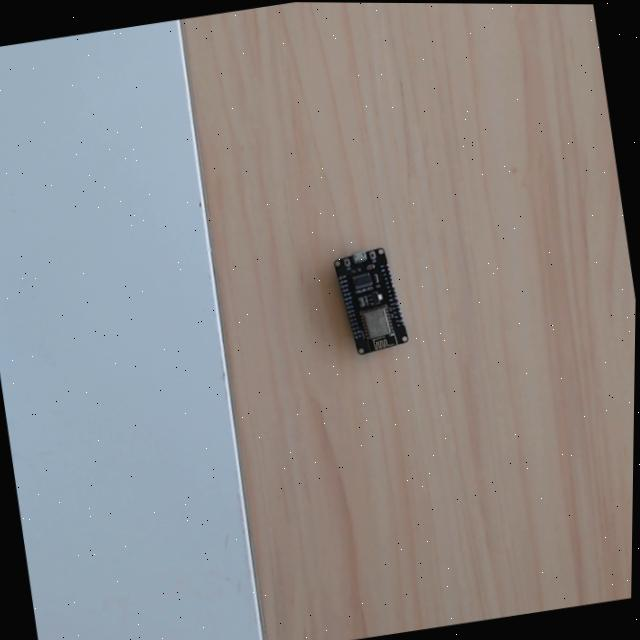ESP8266-NodeMCU: (332, 244, 411, 357)
